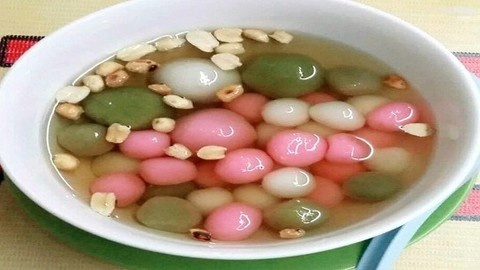ronde: (41, 24, 438, 242)
